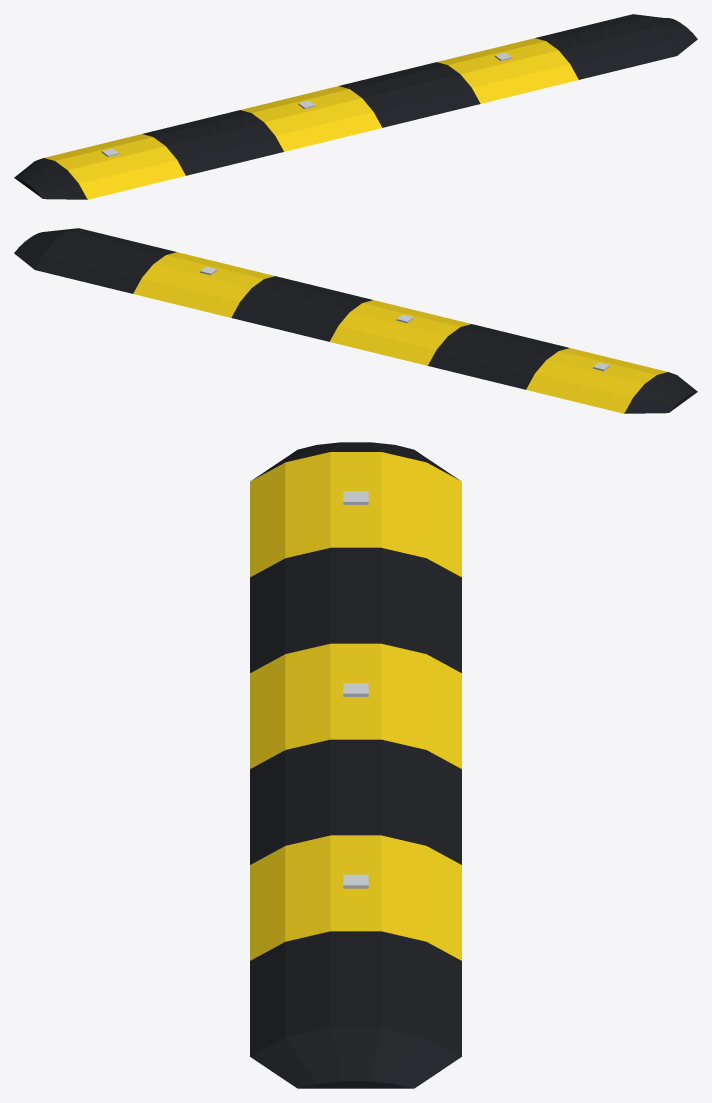
The model's file is speed_bump.glb.
The picture shows the model from 3 angles, top to bottom: view 1: azimuth 30°, elevation 25°; view 2: azimuth 150°, elevation 25°; view 3: azimuth 270°, elevation 25°; orthographic projection. The views are drawn at different scales.
Visible parts, largest first — view 1: speed_bump; view 2: speed_bump; view 3: speed_bump.
Part boxes in pixels (<box>): speed_bump: <box>14,14,697,199</box>; speed_bump: <box>14,228,697,413</box>; speed_bump: <box>250,442,461,1088</box>.
Bounding box in the file's own units: 3 × 0.072 × 0.42.
